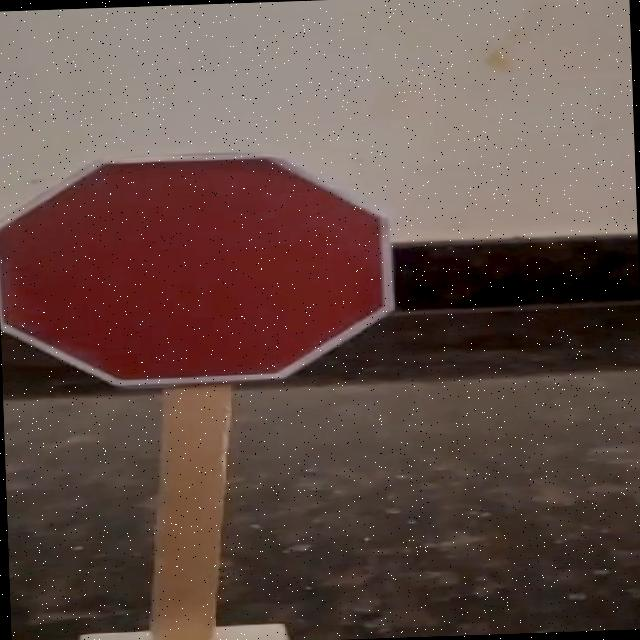Stop: (0, 125, 418, 401)
